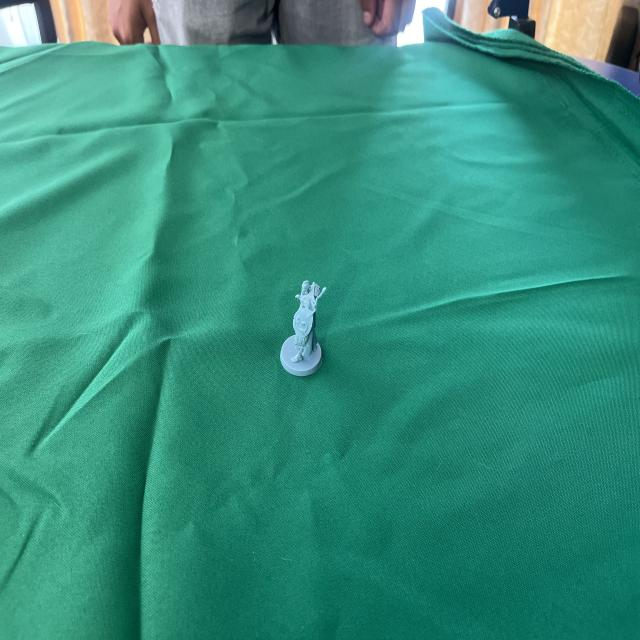isis_follower: (284, 277, 331, 379)
